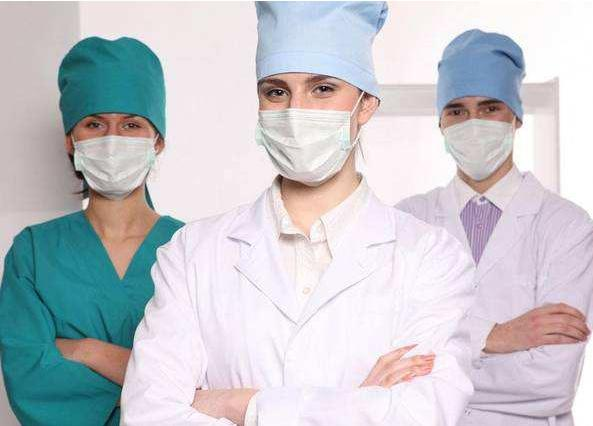OK: (254, 75, 357, 187), (74, 112, 157, 199), (442, 95, 517, 179)
